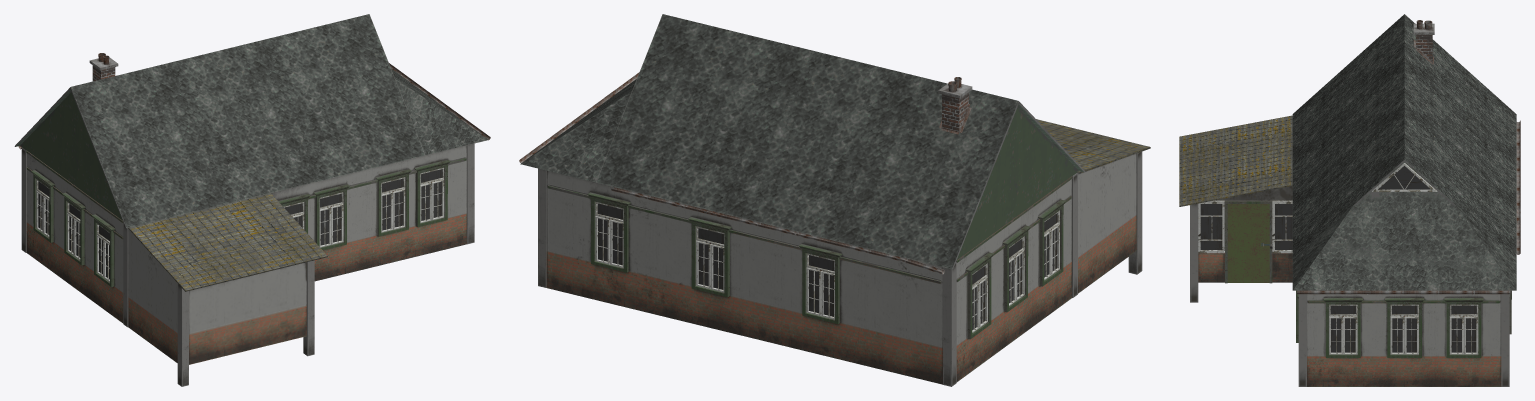
File: hs_koy.glb
3 views of the same model, side by side, from view 1: azimuth 30°, elevation 25°; view 2: azimuth 150°, elevation 25°; view 3: azimuth 270°, elevation 25° (orthographic). The views are drawn at different scales.
Parts seen in each view (by area): view 1: roof_roof_0, walls _walls_0, big window_windows_0, drain pipe_details_0; view 2: roof_roof_0, walls _walls_0, big window_windows_0, drain pipe_details_0; view 3: roof_roof_0, walls _walls_0, big window_windows_0, drain pipe_details_0.
Boxes of the visible parts, x1,y1,x2,y2 form: roof_roof_0: (14, 14, 488, 291); walls _walls_0: (21, 143, 474, 386); big window_windows_0: (31, 160, 450, 286); drain pipe_details_0: (18, 53, 490, 149); roof_roof_0: (520, 14, 1150, 269); walls _walls_0: (538, 151, 1142, 386); big window_windows_0: (587, 192, 1066, 339); drain pipe_details_0: (519, 72, 972, 274); roof_roof_0: (1179, 14, 1516, 290); walls _walls_0: (1190, 186, 1509, 386); big window_windows_0: (1198, 163, 1511, 357); drain pipe_details_0: (1261, 20, 1520, 294).
Bounding box in the file's own units: 150 × 92.47 × 121.
Materials: 4 (4 with a texture image).
